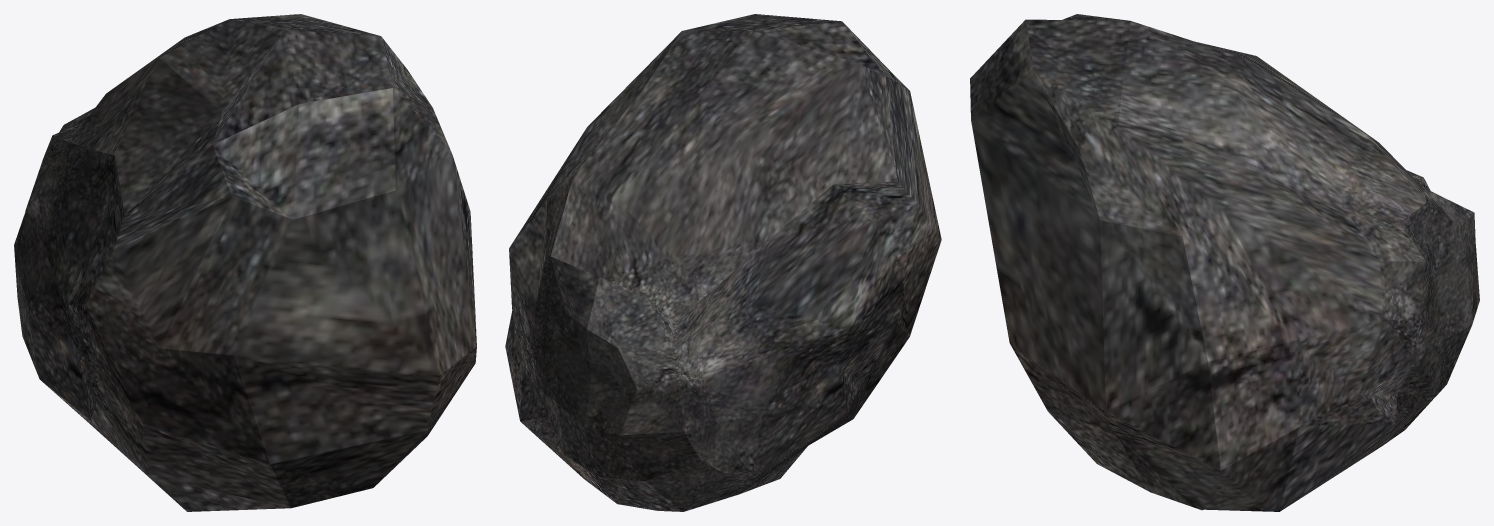
Rendered from rock3fbx.fbx.
3 renders of one model, left to right at view 1: azimuth 30°, elevation 25°; view 2: azimuth 150°, elevation 25°; view 3: azimuth 270°, elevation 25°, orthographic. The views are drawn at different scales.
Visible parts, largest first — view 1: rock3; view 2: rock3; view 3: rock3.
Part boxes in pixels (<box>): rock3: <box>14,14,476,511</box>; rock3: <box>505,14,941,511</box>; rock3: <box>970,14,1479,511</box>.
Size of the model in its own units: 315 by 358 by 374.
